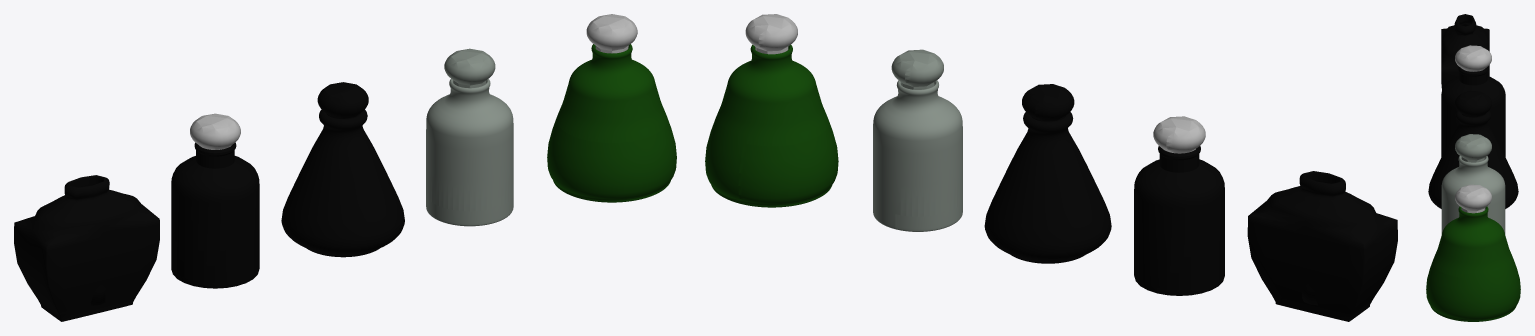
Rendered from Bottle.fbx.
3 views of the same model, side by side, from view 1: azimuth 30°, elevation 25°; view 2: azimuth 150°, elevation 25°; view 3: azimuth 270°, elevation 25° (orthographic). The views are drawn at different scales.
Parts seen in each view (by area): view 1: Cylinder06, Box002, Cylinder02, Cylinder00, Cylinder01, Cylinder07, Cylinder05, Cylinder04, Cylinder03; view 2: Cylinder06, Box002, Cylinder02, Cylinder00, Cylinder01, Cylinder07, Cylinder05, Cylinder04, Cylinder03; view 3: Cylinder06, Cylinder00, Cylinder02, Cylinder01, Box002, Cylinder05, Cylinder07, Cylinder04, Cylinder03.
Boxes of the visible parts, left/top/right/bottom form: Cylinder06: left=547, top=44, right=676, bottom=202; Box002: left=14, top=175, right=159, bottom=321; Cylinder02: left=281, top=109, right=404, bottom=257; Cylinder00: left=171, top=142, right=259, bottom=288; Cylinder01: left=426, top=78, right=513, bottom=226; Cylinder07: left=586, top=14, right=637, bottom=53; Cylinder05: left=444, top=48, right=495, bottom=88; Cylinder04: left=317, top=82, right=368, bottom=118; Cylinder03: left=190, top=113, right=240, bottom=149; Cylinder06: left=705, top=44, right=838, bottom=207; Box002: left=1247, top=171, right=1397, bottom=321; Cylinder02: left=984, top=112, right=1111, bottom=263; Cylinder00: left=1134, top=146, right=1224, bottom=295; Cylinder01: left=873, top=80, right=962, bottom=231; Cylinder07: left=745, top=14, right=797, bottom=54; Cylinder05: left=891, top=49, right=943, bottom=89; Cylinder04: left=1022, top=84, right=1074, bottom=121; Cylinder03: left=1153, top=116, right=1205, bottom=153; Cylinder06: left=1426, top=206, right=1520, bottom=321; Cylinder00: left=1441, top=66, right=1505, bottom=156; Cylinder02: left=1428, top=110, right=1518, bottom=208; Cylinder01: left=1441, top=156, right=1505, bottom=234; Box002: left=1441, top=14, right=1489, bottom=90; Cylinder05: left=1455, top=134, right=1491, bottom=162; Cylinder07: left=1455, top=184, right=1491, bottom=213; Cylinder04: left=1455, top=90, right=1491, bottom=117; Cylinder03: left=1455, top=45, right=1491, bottom=71.
Bounding box in the file's own units: 337 × 78.97 × 58.79.
